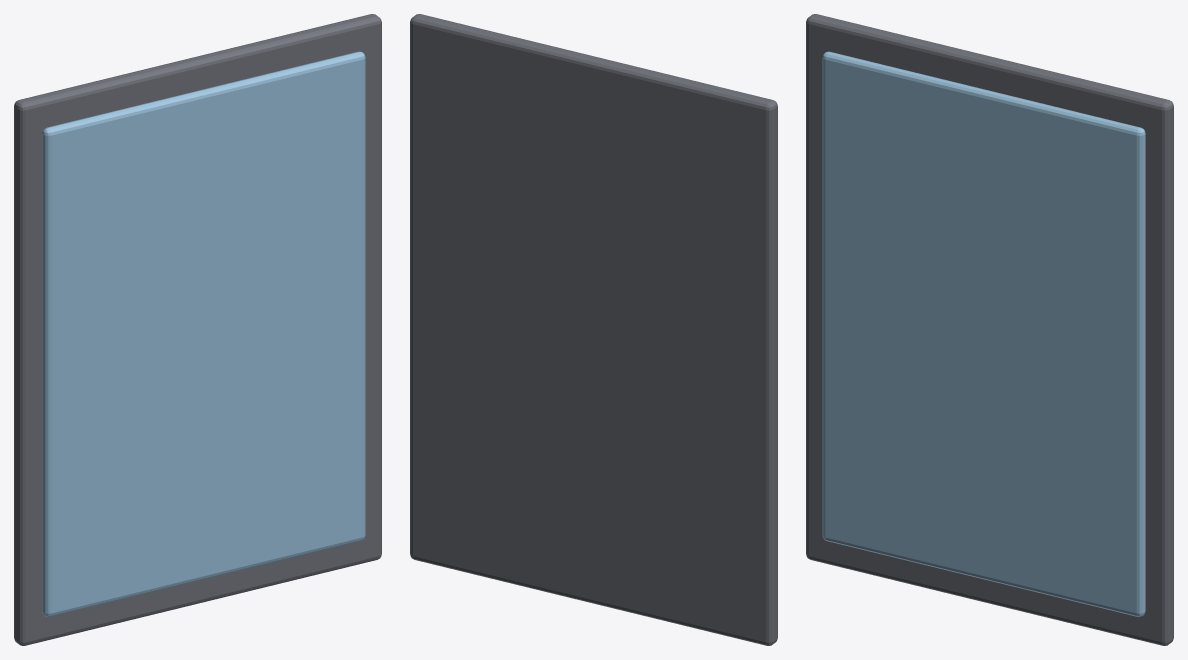
Rendered from Poster.fbx.
The picture shows the model from 3 angles, left to right: view 1: azimuth 30°, elevation 25°; view 2: azimuth 150°, elevation 25°; view 3: azimuth 330°, elevation 25°; orthographic projection.
Parts seen in each view (by area): view 1: Poster; view 2: Poster; view 3: Poster.
Boxes of the visible parts, bbox=[...] form: Poster: bbox=[14, 14, 381, 645]; Poster: bbox=[410, 14, 777, 645]; Poster: bbox=[806, 14, 1173, 645].
Bounding box in the file's own units: 0.7 × 1 × 0.045.
